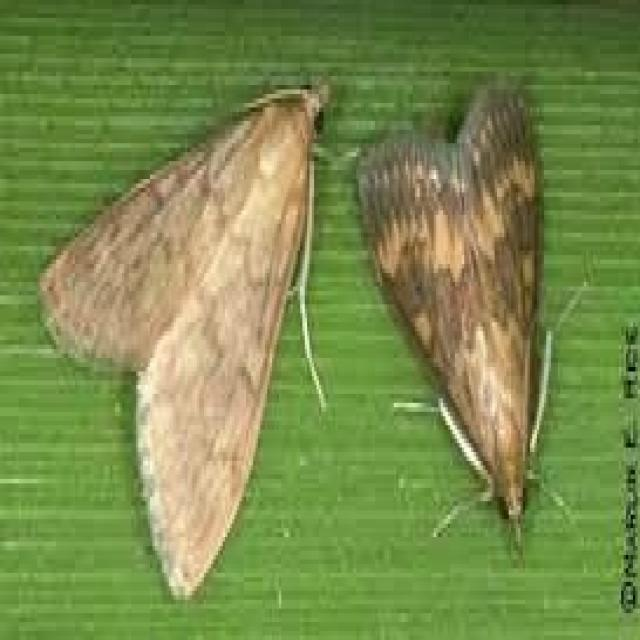cornborer-Adult-: (32, 51, 349, 619), (348, 76, 600, 562)
